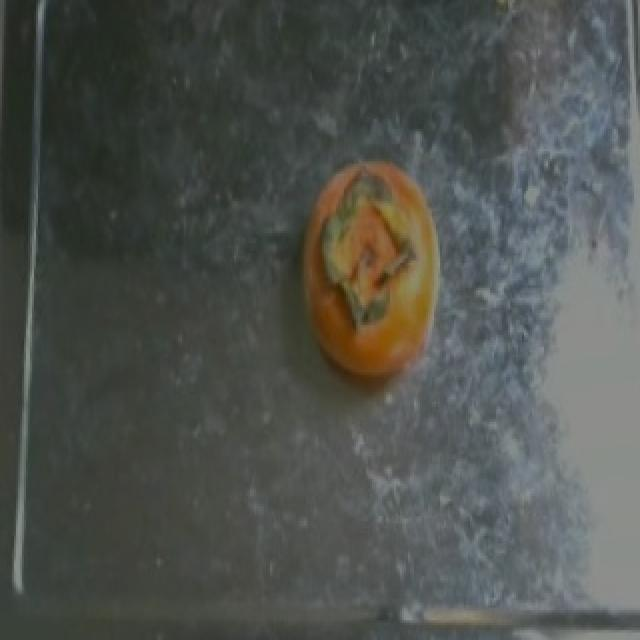Fruit: (282, 142, 462, 410)
